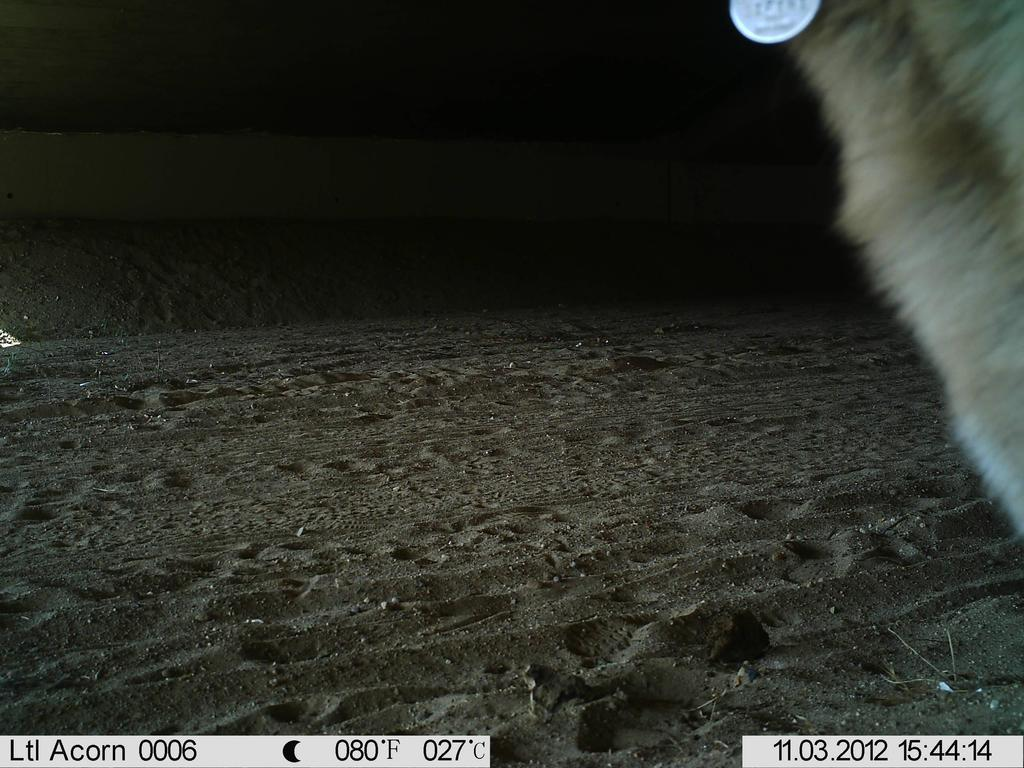dog: (697, 1, 1022, 552)
